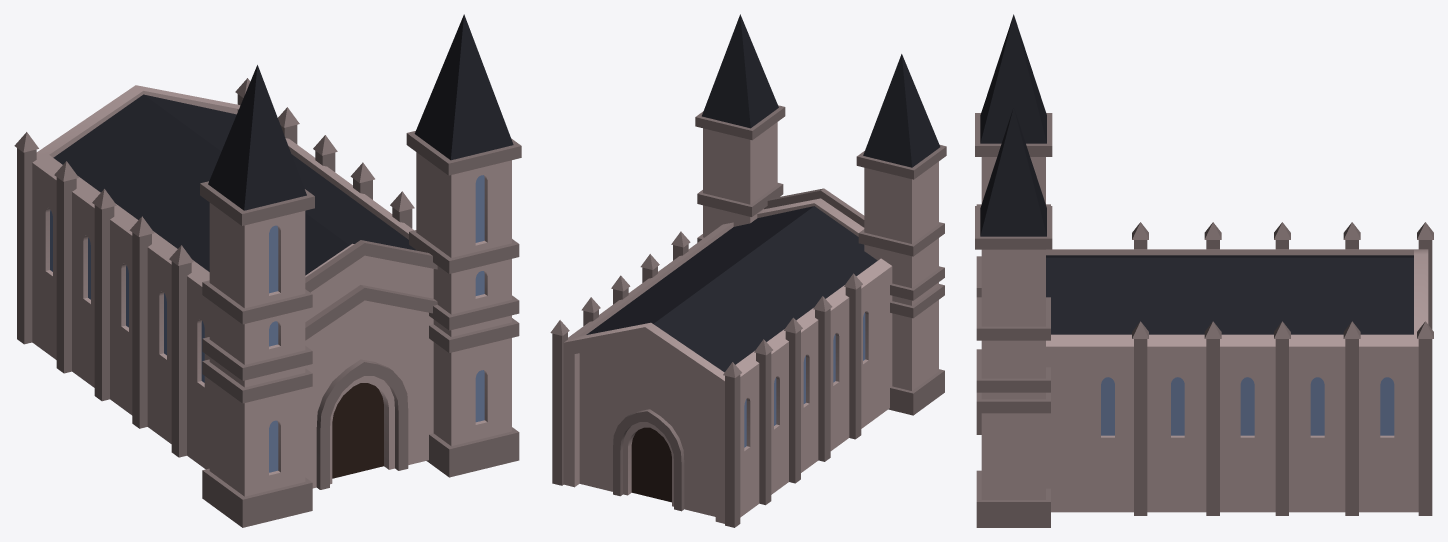
Rendered from Church_02.fbx.
3 renders of one model, left to right at view 1: azimuth 30°, elevation 25°; view 2: azimuth 150°, elevation 25°; view 3: azimuth 270°, elevation 25°, orthographic. The views are drawn at different scales.
Visible parts, largest first — view 1: Church_02; view 2: Church_02; view 3: Church_02.
Boxes of the visible parts, x1,y1,x2,y2 form: Church_02: [14, 14, 521, 527]; Church_02: [550, 14, 946, 527]; Church_02: [975, 14, 1433, 527].
Size of the model in its own units: 16.98 by 25.55 by 26.21.
